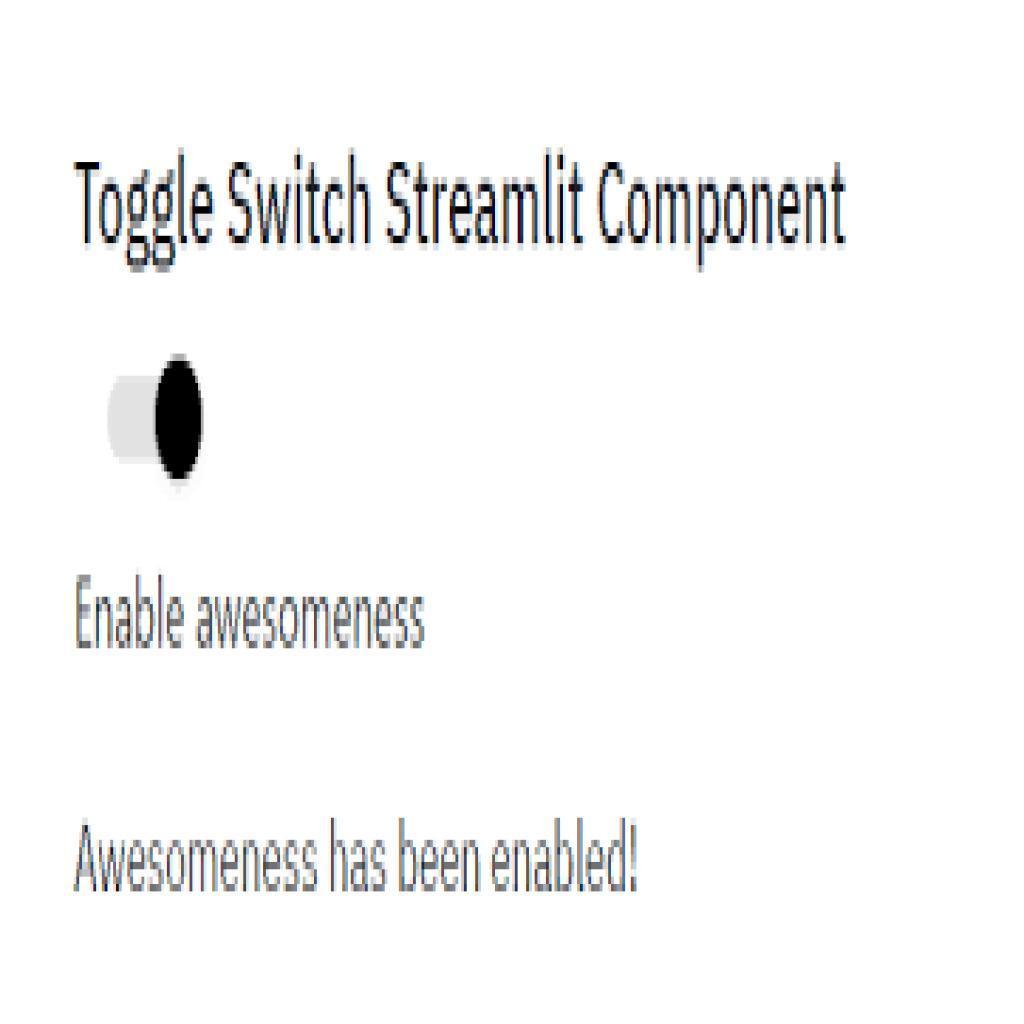label: (70, 152, 852, 276), (67, 817, 648, 900), (68, 570, 428, 652)
switch: (107, 354, 206, 490)
